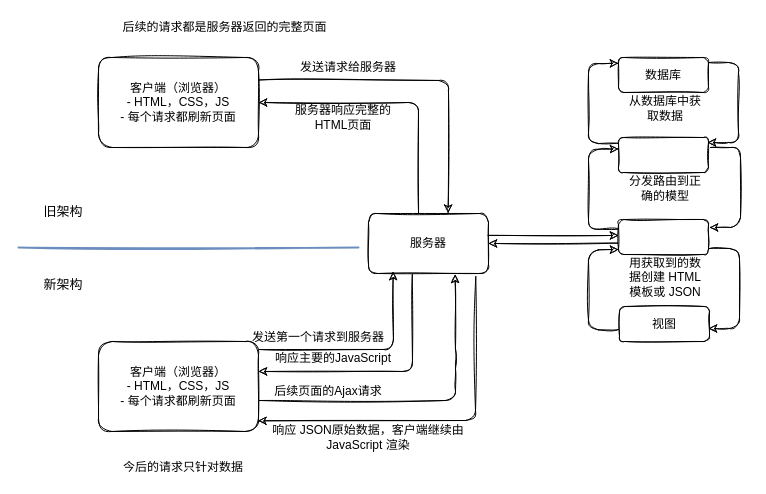
Some shapes in this 766 by 494 pixel diagram are drawn without their labels. The shapes that lost their labels are listed below. From the top down, each one's box as (x1, y1, x2, y2) in pixels, then its label:
(618, 136, 708, 172): 模型
(618, 218, 708, 254): 控制器
